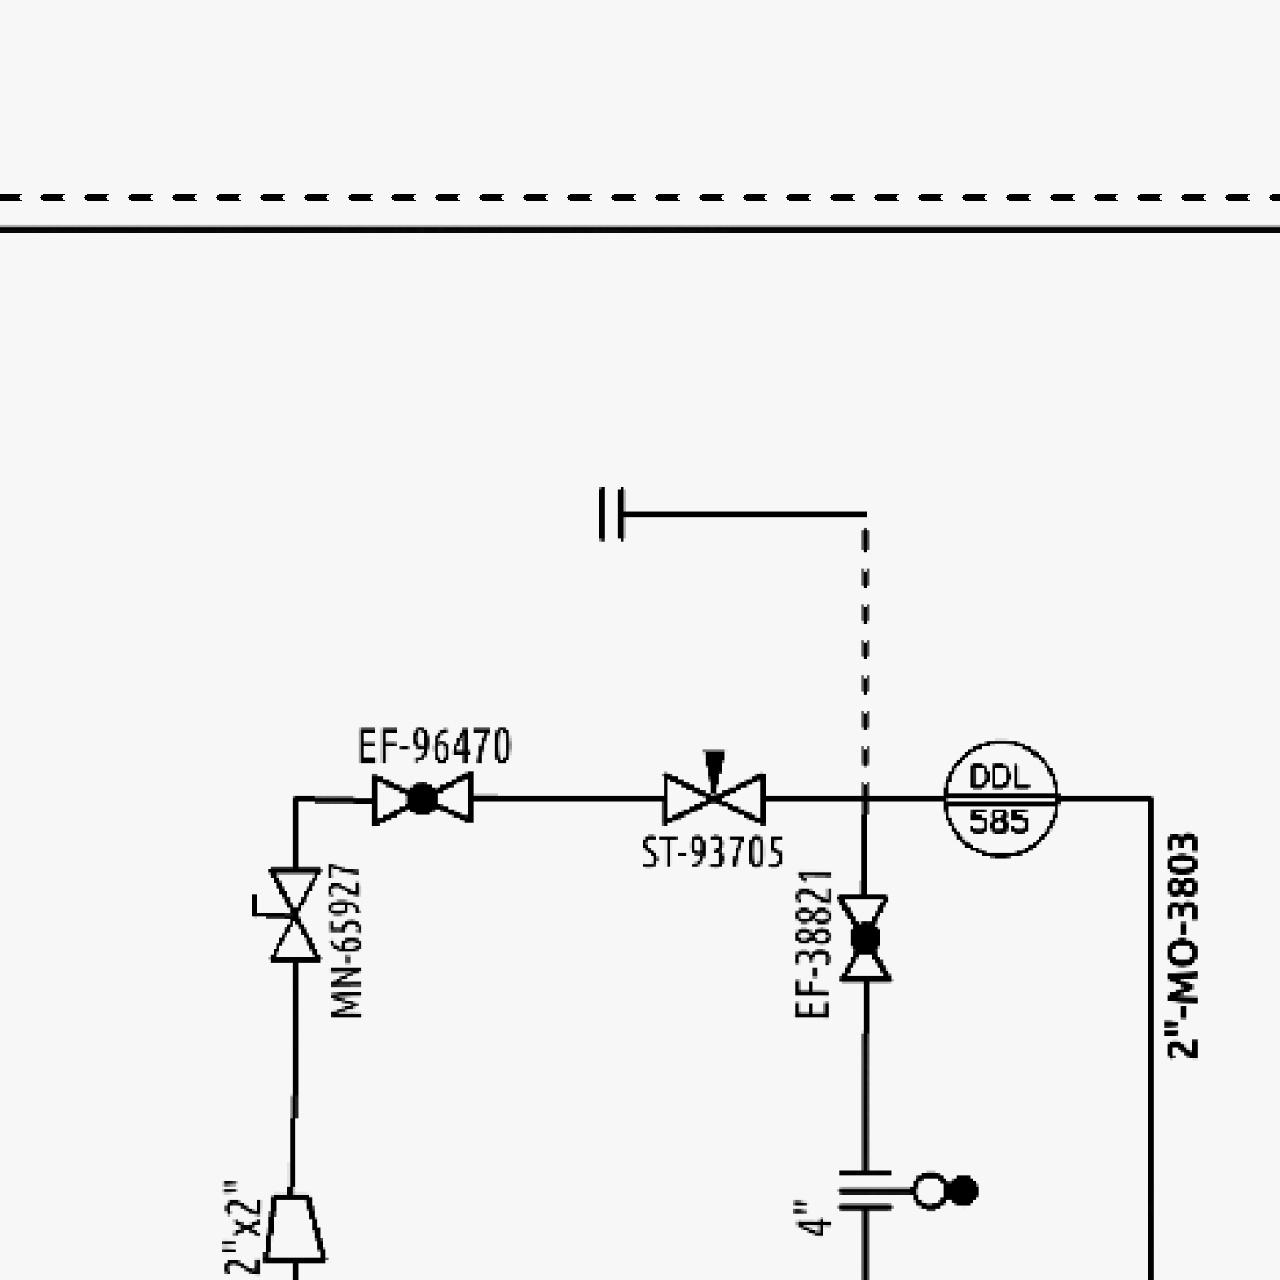Control-Panel: (937, 734, 1064, 862)
